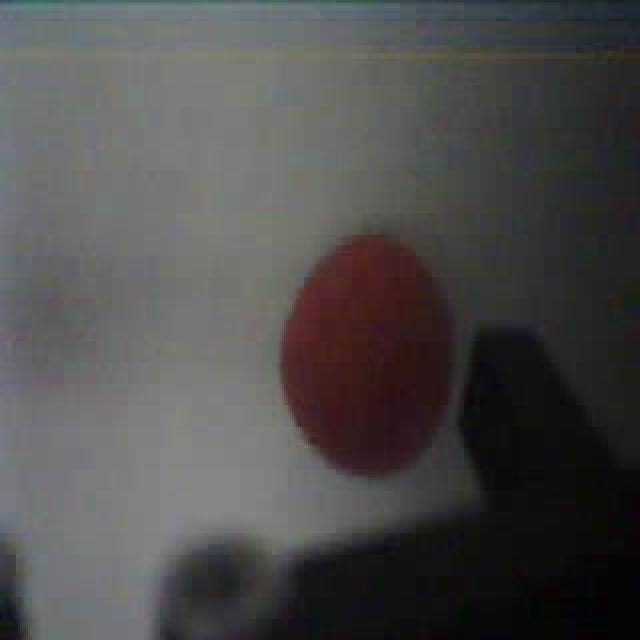red_ball: (276, 227, 460, 480)
